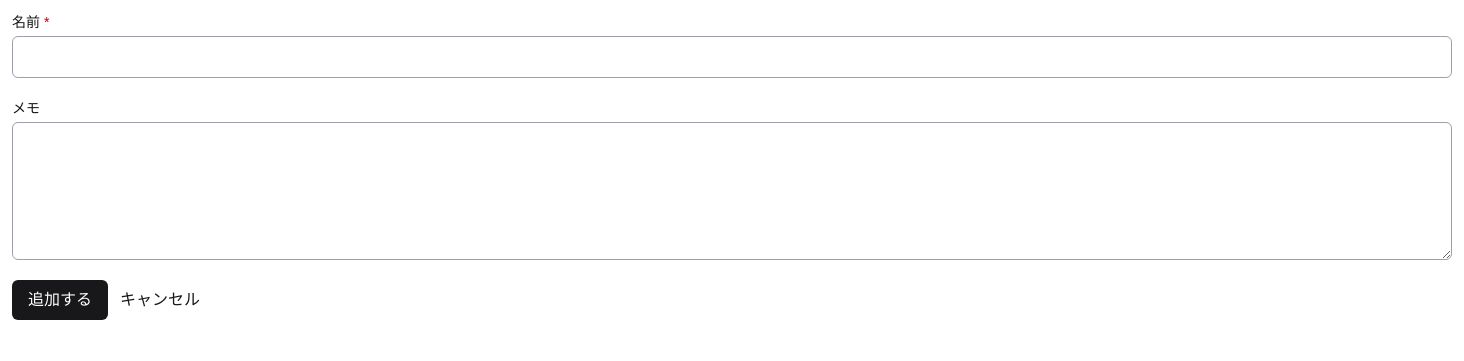
Scenario: CustomerForm の画面の検証 › 名前が空なら送信せず、項目の下にサーバーと同じ文言を出して、その項目へカーソルを移す
This screenshot has width=1464, height=361.
Click the button "追加する" at (60, 300), box [12,280,108,320]
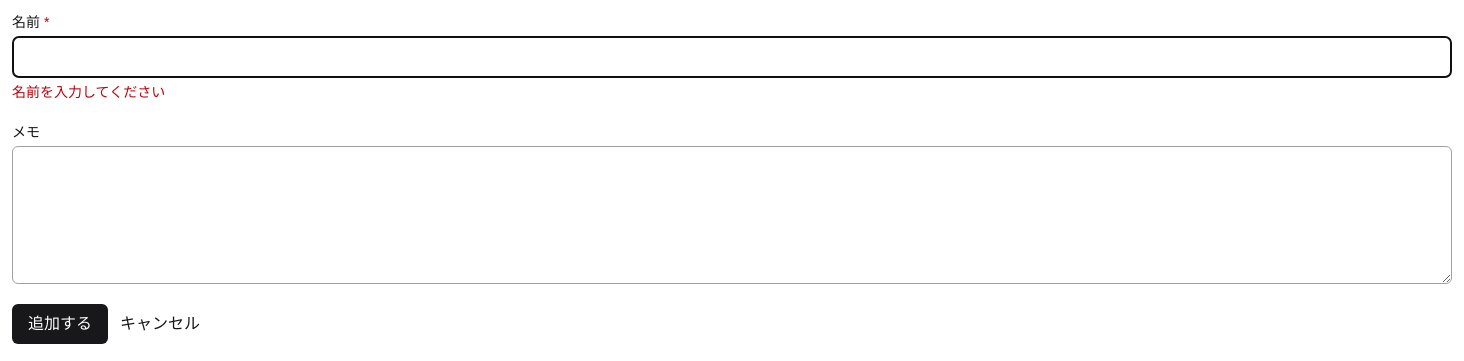
Expected: the text "名前を入力してください" is shown, [12,84,165,100]
